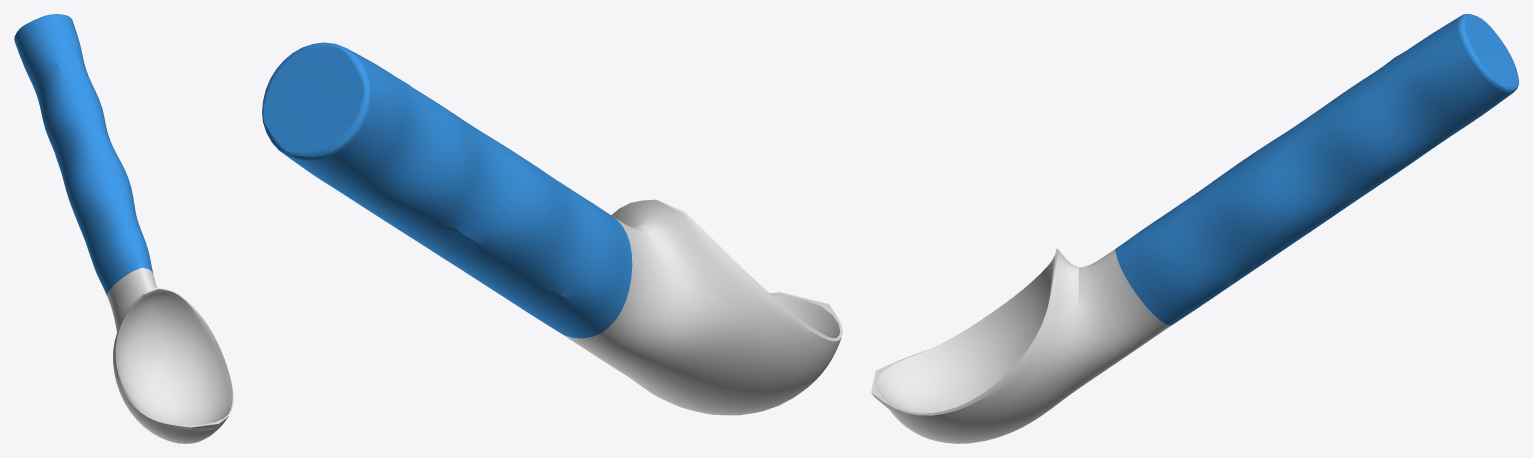
The model's file is Scoop_Scooping_Position_02.fbx.
3 views of the same model, side by side, from view 1: azimuth 30°, elevation 25°; view 2: azimuth 150°, elevation 25°; view 3: azimuth 270°, elevation 25° (orthographic). The views are drawn at different scales.
Parts seen in each view (by area): view 1: scoop; view 2: scoop; view 3: scoop.
Boxes of the visible parts, <box> form: scoop: <box>14,14,233,443</box>; scoop: <box>262,42,842,415</box>; scoop: <box>871,14,1518,443</box>.
Size of the model in its own units: 39.02 by 97.06 by 128.
